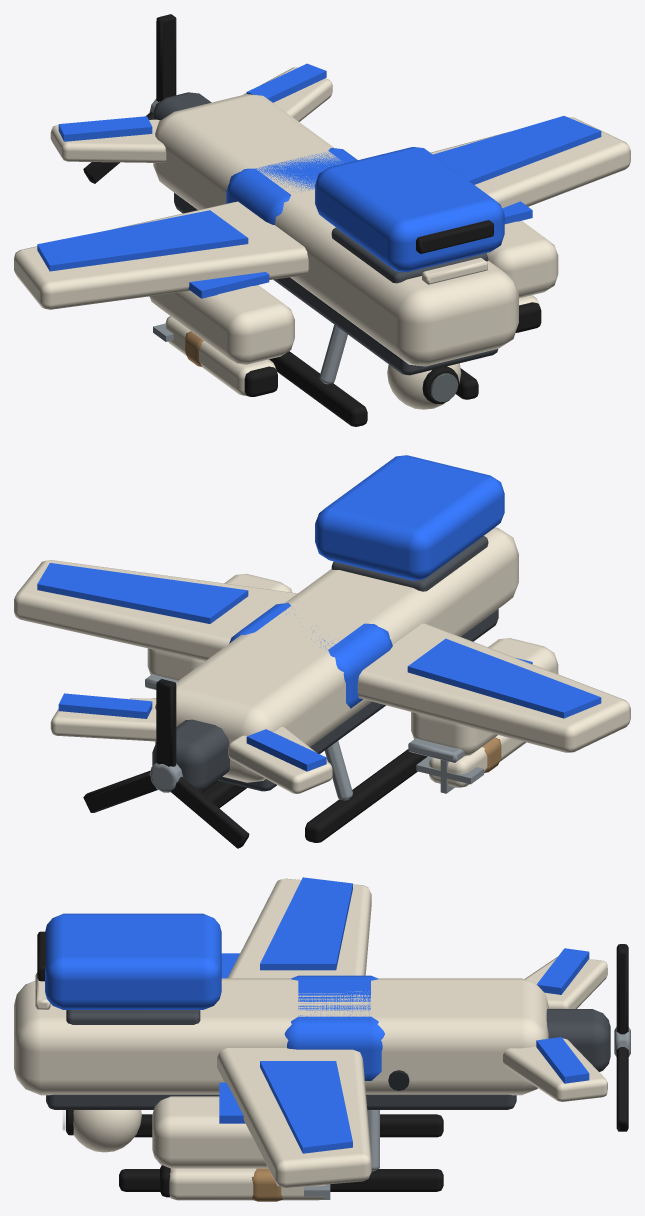
The model's file is reaper_drone.glb.
3 renders of one model, top to bottom at view 1: azimuth 30°, elevation 25°; view 2: azimuth 150°, elevation 25°; view 3: azimuth 270°, elevation 25°, orthographic.
Parts seen in each view (by area): view 1: airframe__M_CreamPlastic, airframe__M_Team, rp_crown__M_Team, airframe__M_SmokePlastic, rp_skid_r__M_Licorice, rp_round_r__M_CreamPlastic, rp_prop_blade_0__M_Licorice, rp_crown__M_SmokePlastic, rp_crown__M_Licorice, rp_sensor_yaw__M_CreamPlastic, rp_sensor_pitch__M_Licorice, rp_crown__M_CreamPlastic (+4 smaller); view 2: airframe__M_CreamPlastic, airframe__M_Team, rp_crown__M_Team, airframe__M_SmokePlastic, rp_skid_r__M_Licorice, rp_prop_blade_0__M_Licorice, rp_prop_blade_1__M_Licorice, rp_crown__M_SmokePlastic, rp_prop_blade_2__M_Licorice, rp_round_r__M_CreamPlastic, airframe__M_SpringSteel, rp_round_r__M_SpringSteel (+3 smaller); view 3: airframe__M_CreamPlastic, airframe__M_Team, rp_crown__M_Team, airframe__M_SmokePlastic, rp_round_l__M_CreamPlastic, rp_skid_l__M_Licorice, rp_sensor_yaw__M_CreamPlastic, rp_crown__M_SmokePlastic, rp_skid_r__M_Licorice, rp_prop_blade_0__M_Licorice, rp_prop_blade_2__M_Licorice, rp_round_l__M_Kraft (+1 smaller).
Boxes of the visible parts, bbox=[...] form: airframe__M_CreamPlastic: bbox=[14, 67, 630, 366]; airframe__M_Team: bbox=[37, 63, 601, 298]; rp_crown__M_Team: bbox=[315, 147, 504, 272]; airframe__M_SmokePlastic: bbox=[152, 92, 498, 375]; rp_skid_r__M_Licorice: bbox=[269, 351, 367, 426]; rp_round_r__M_CreamPlastic: bbox=[165, 316, 276, 395]; rp_prop_blade_0__M_Licorice: bbox=[156, 14, 176, 101]; rp_crown__M_SmokePlastic: bbox=[331, 227, 488, 283]; rp_crown__M_Licorice: bbox=[416, 220, 493, 253]; rp_sensor_yaw__M_CreamPlastic: bbox=[387, 363, 461, 409]; rp_sensor_pitch__M_Licorice: bbox=[422, 366, 458, 403]; rp_crown__M_CreamPlastic: bbox=[422, 258, 487, 284]; airframe__M_CreamPlastic: bbox=[14, 527, 630, 793]; airframe__M_Team: bbox=[37, 563, 601, 771]; rp_crown__M_Team: bbox=[315, 455, 504, 580]; airframe__M_SmokePlastic: bbox=[152, 609, 498, 792]; rp_skid_r__M_Licorice: bbox=[305, 749, 427, 842]; rp_prop_blade_0__M_Licorice: bbox=[156, 679, 176, 766]; rp_prop_blade_1__M_Licorice: bbox=[171, 776, 249, 848]; rp_crown__M_SmokePlastic: bbox=[331, 536, 488, 591]; rp_prop_blade_2__M_Licorice: bbox=[83, 770, 157, 812]; rp_round_r__M_CreamPlastic: bbox=[429, 735, 526, 787]; airframe__M_SpringSteel: bbox=[145, 674, 465, 762]; rp_round_r__M_SpringSteel: bbox=[416, 756, 483, 793]; airframe__M_CreamPlastic: bbox=[14, 878, 607, 1187]; airframe__M_Team: bbox=[219, 877, 589, 1153]; rp_crown__M_Team: bbox=[45, 913, 221, 1009]; airframe__M_SmokePlastic: bbox=[46, 1009, 610, 1109]; rp_round_l__M_CreamPlastic: bbox=[169, 1168, 325, 1200]; rp_skid_l__M_Licorice: bbox=[119, 1169, 443, 1191]; rp_sensor_yaw__M_CreamPlastic: bbox=[73, 1110, 141, 1152]; rp_crown__M_SmokePlastic: bbox=[66, 1010, 200, 1024]; rp_skid_r__M_Licorice: bbox=[134, 1114, 443, 1137]; rp_prop_blade_0__M_Licorice: bbox=[616, 944, 628, 1034]; rp_prop_blade_2__M_Licorice: bbox=[616, 1047, 628, 1131]; rp_round_l__M_Kraft: bbox=[251, 1168, 282, 1201].
Size of the model in its own units: 1.43 by 0.5245 by 1.29.
